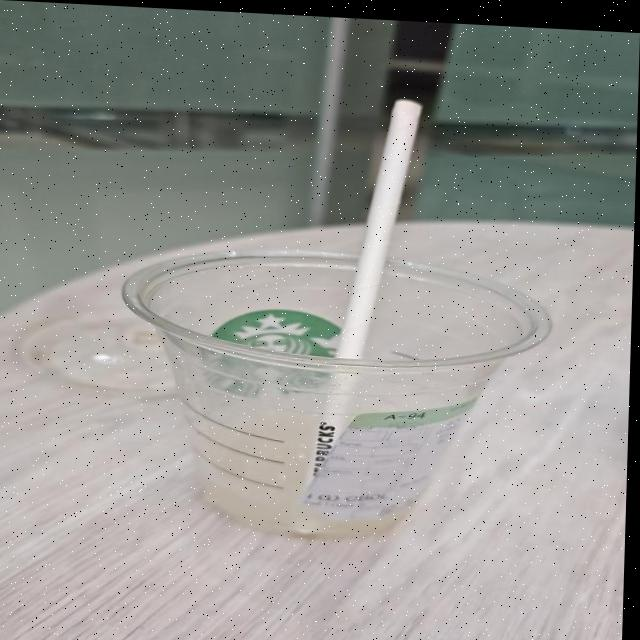cup: (83, 237, 553, 550)
